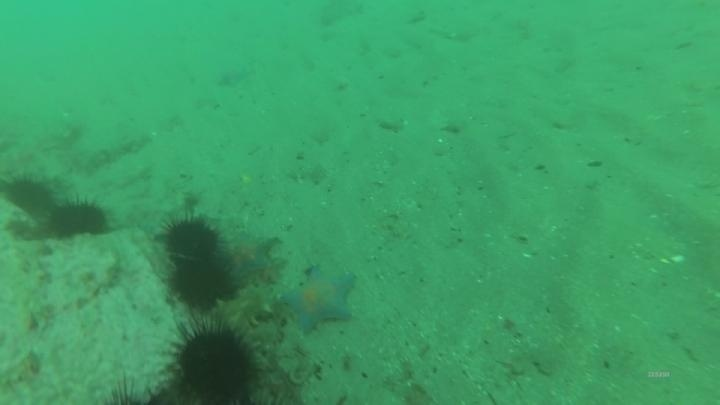echinus: (168, 319, 262, 405), (169, 255, 237, 312), (159, 212, 223, 263), (45, 195, 111, 242), (3, 172, 57, 218), (90, 375, 161, 405)
holothurian: (213, 280, 281, 336), (72, 128, 153, 175)
starfish: (279, 263, 359, 336), (220, 228, 280, 281), (214, 61, 256, 90)
